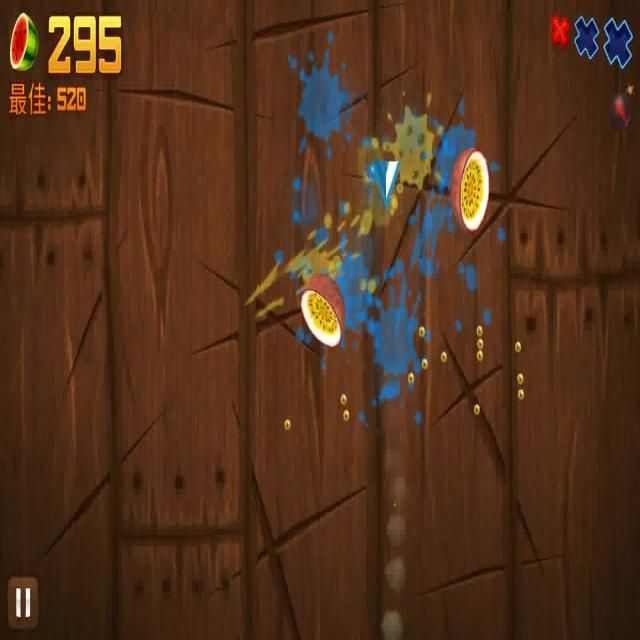fruit: (298, 264, 346, 348), (451, 146, 490, 234)
